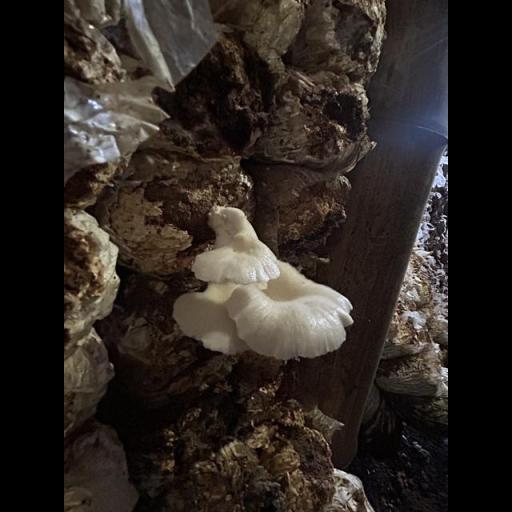White Oyster Mushroom: (171, 203, 367, 368)
